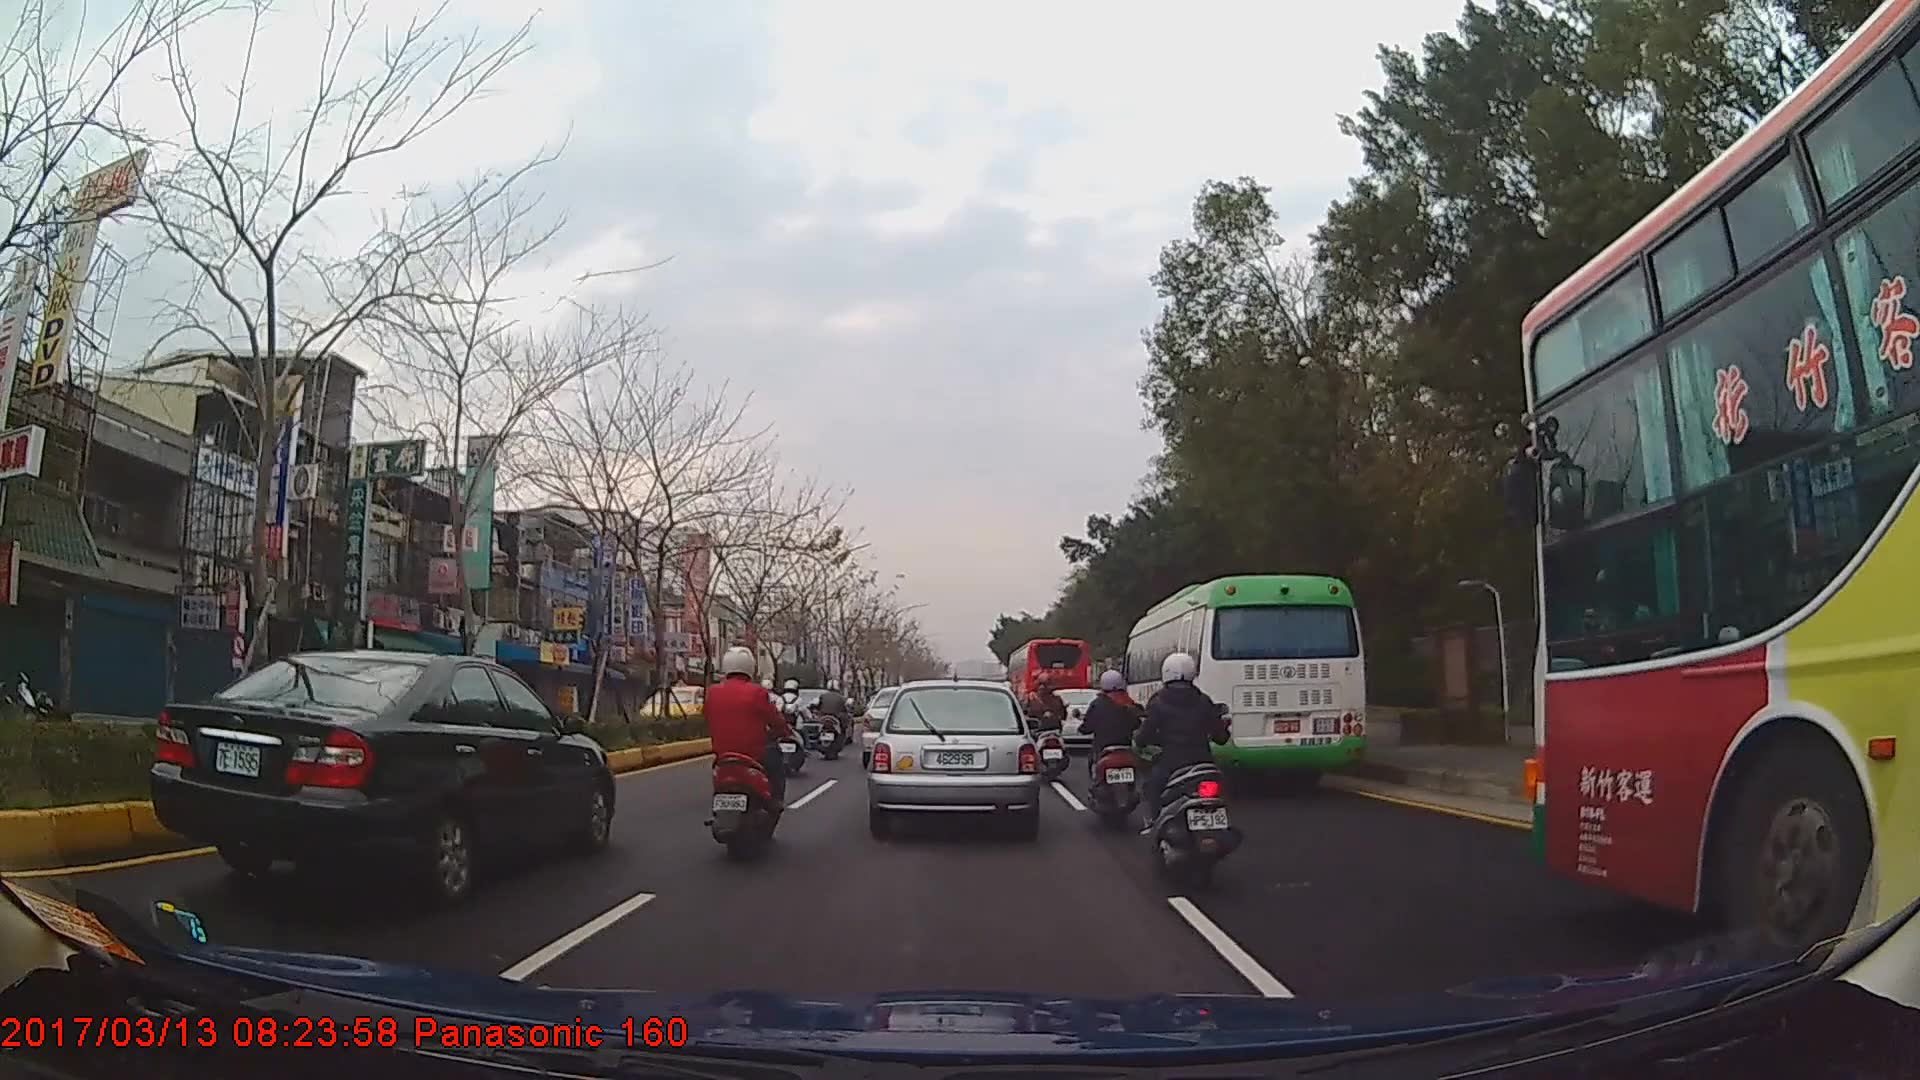rider: (1139, 649, 1245, 896), (696, 642, 784, 861), (1076, 664, 1147, 828), (1027, 669, 1071, 785), (773, 676, 815, 778), (818, 677, 857, 758), (753, 676, 795, 745)
vehicle: (1522, 0, 1920, 986), (144, 644, 616, 899), (1121, 573, 1368, 788), (866, 678, 1036, 835), (1006, 634, 1089, 729)
